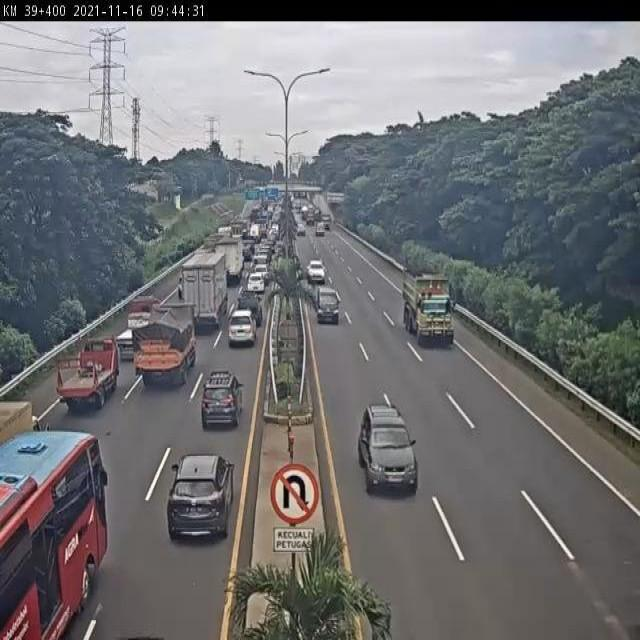car: (168, 456, 235, 541), (359, 408, 420, 496), (200, 371, 244, 429), (227, 314, 257, 350), (235, 296, 262, 332), (316, 286, 342, 322), (247, 274, 266, 294)
small truck: (55, 338, 117, 413), (111, 300, 162, 363)
truck-l-: (405, 272, 457, 347), (178, 255, 225, 333)
truck-m-: (133, 303, 198, 388), (212, 236, 244, 284)
